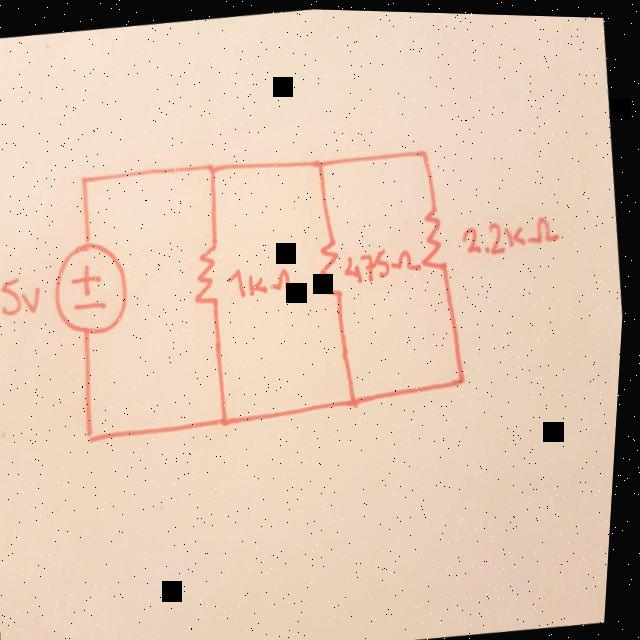junction: (74, 166, 95, 189), (203, 155, 222, 178), (415, 136, 434, 159), (313, 150, 330, 172), (348, 387, 364, 409), (455, 364, 470, 387), (220, 407, 237, 425), (86, 425, 101, 445)
resistor: (185, 233, 232, 312), (413, 194, 458, 276), (310, 224, 352, 303)
source: (46, 231, 138, 339)
text: (457, 201, 565, 259), (340, 235, 426, 284), (226, 255, 302, 301), (0, 269, 49, 323)
